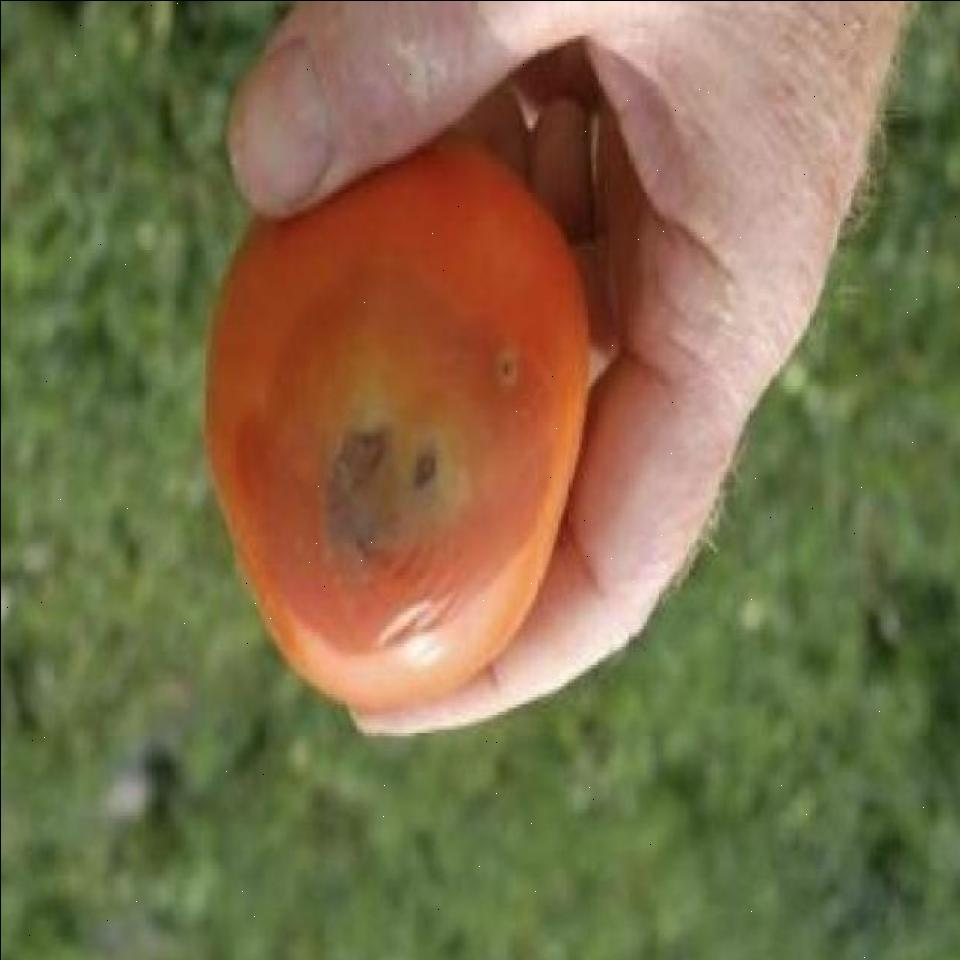Blossom_end_rot: (323, 415, 474, 584), (496, 347, 530, 397)
